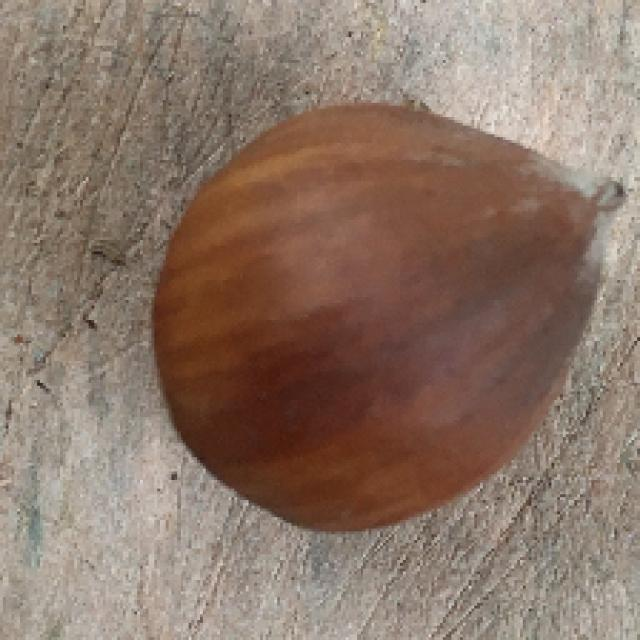qualityHazelnut: (157, 98, 619, 534)
